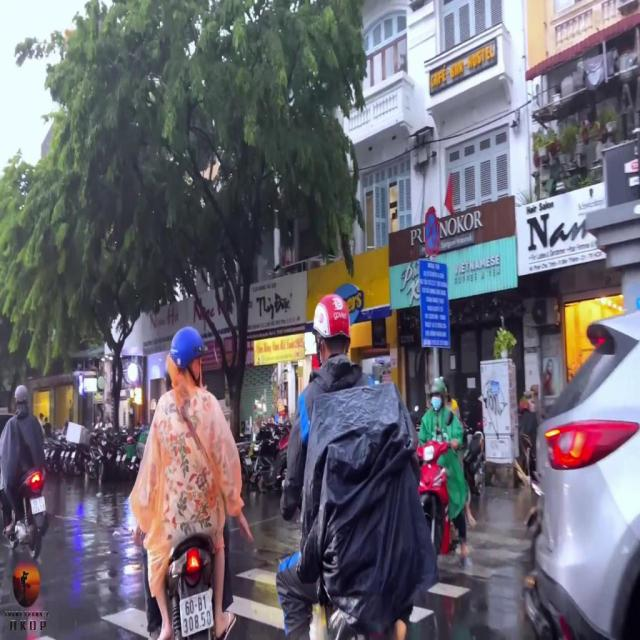cam_dung_xe_va_do_xe: (425, 206, 440, 257)
